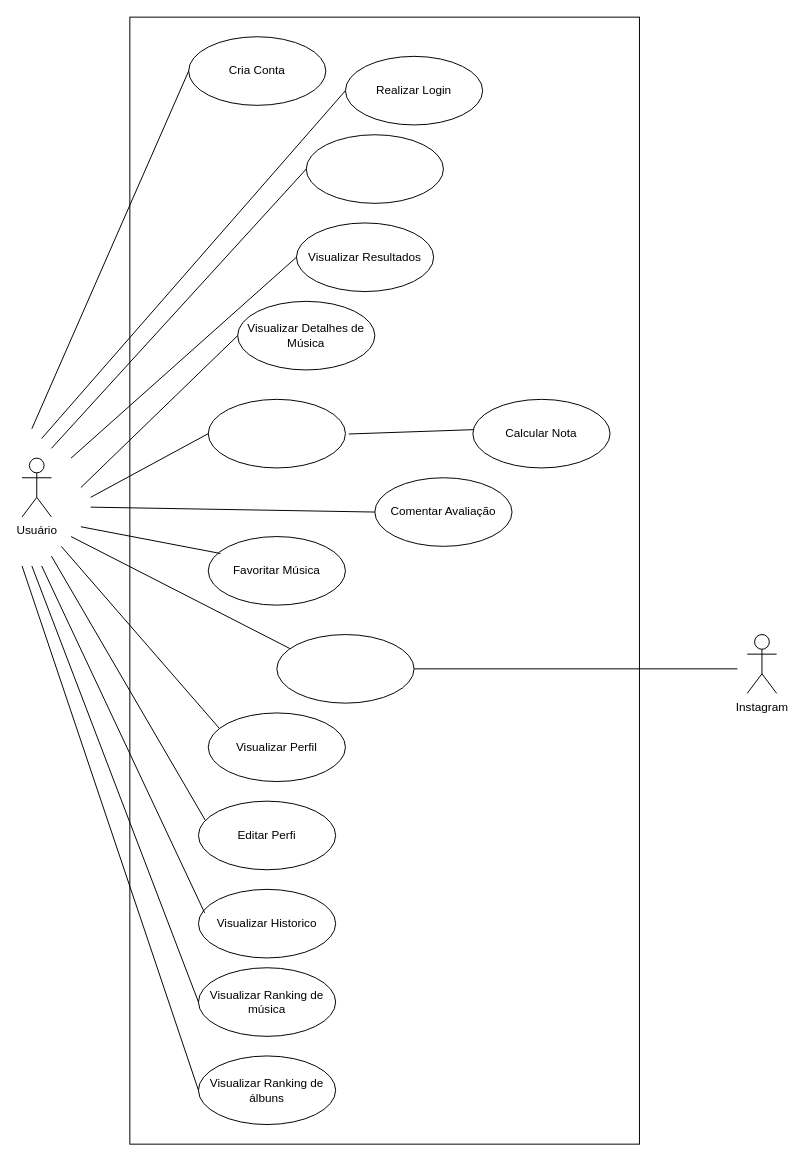
Some shapes in this 805 by 1161 pixel diagram are drawn without their labels. The shapes that lost their labels are listed below. From the top down, each one's box as (x1, y1, x2, y2) in pixels, then its label:
(305, 134, 443, 203): Pesquisar Música
(207, 398, 345, 468): Avaliar Música
(276, 634, 414, 703): Compartilhar no Instagram
